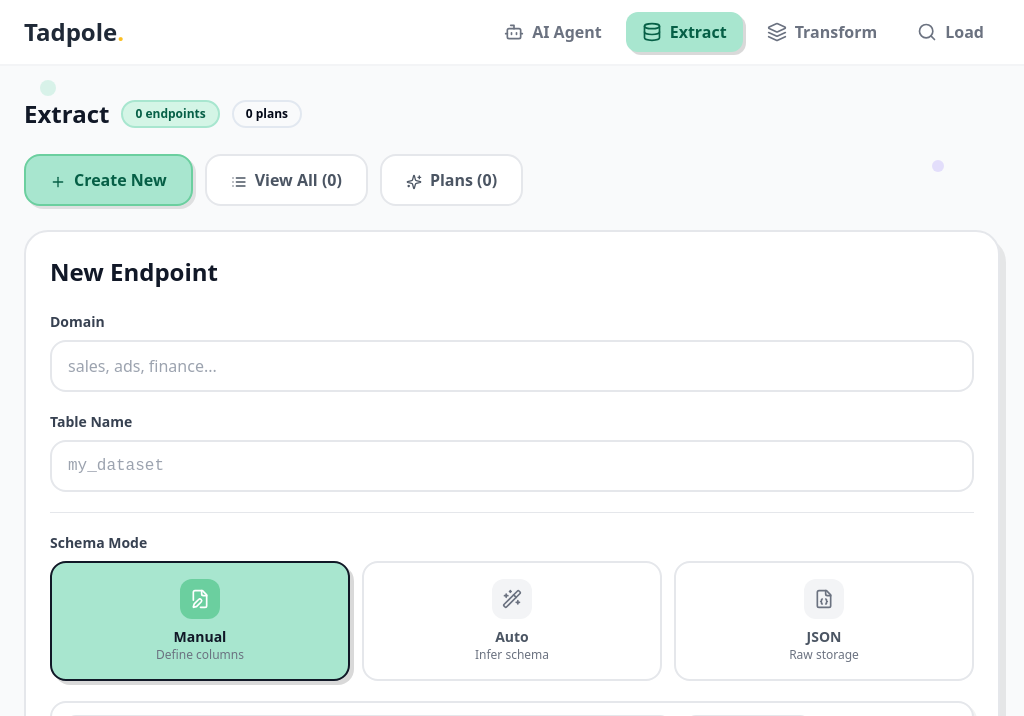
Test: Endpoint Creation Flow › shows validation error when table name is empty
The image size is (1024, 716).
Type "sales" into the field with placeholder "sales, ads, finance..." at (512, 366), box [50,340,974,392]
(page scrolled)
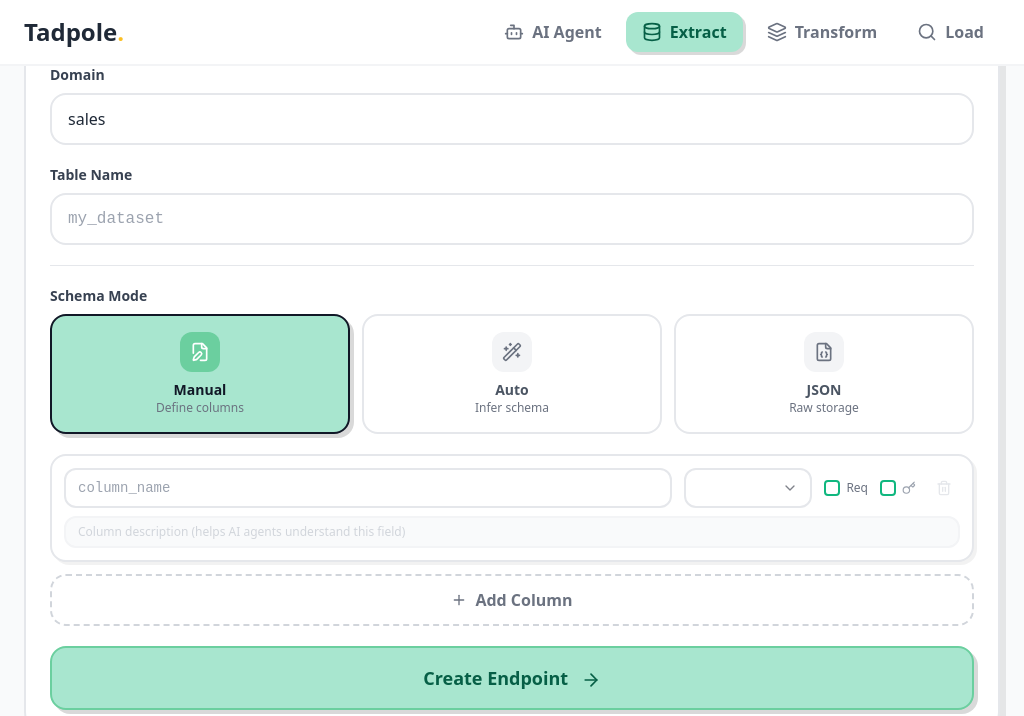
Click the button "Create Endpoint" at (512, 678), box [50,646,974,710]
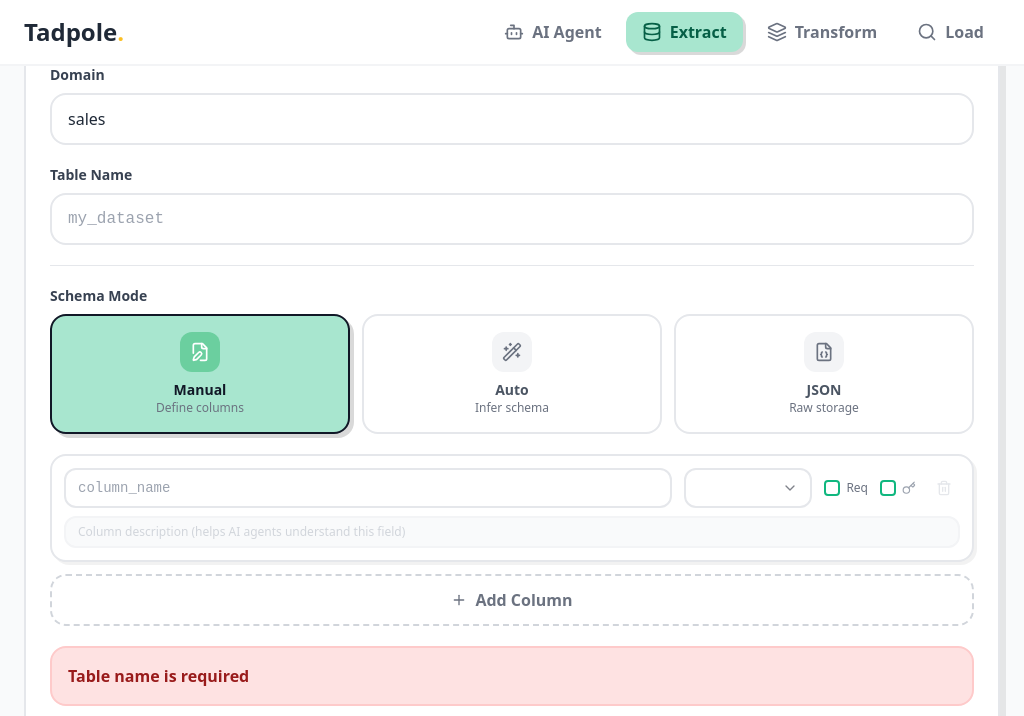
Check: the text "Table name is required" is shown, box [68,665,249,687]
